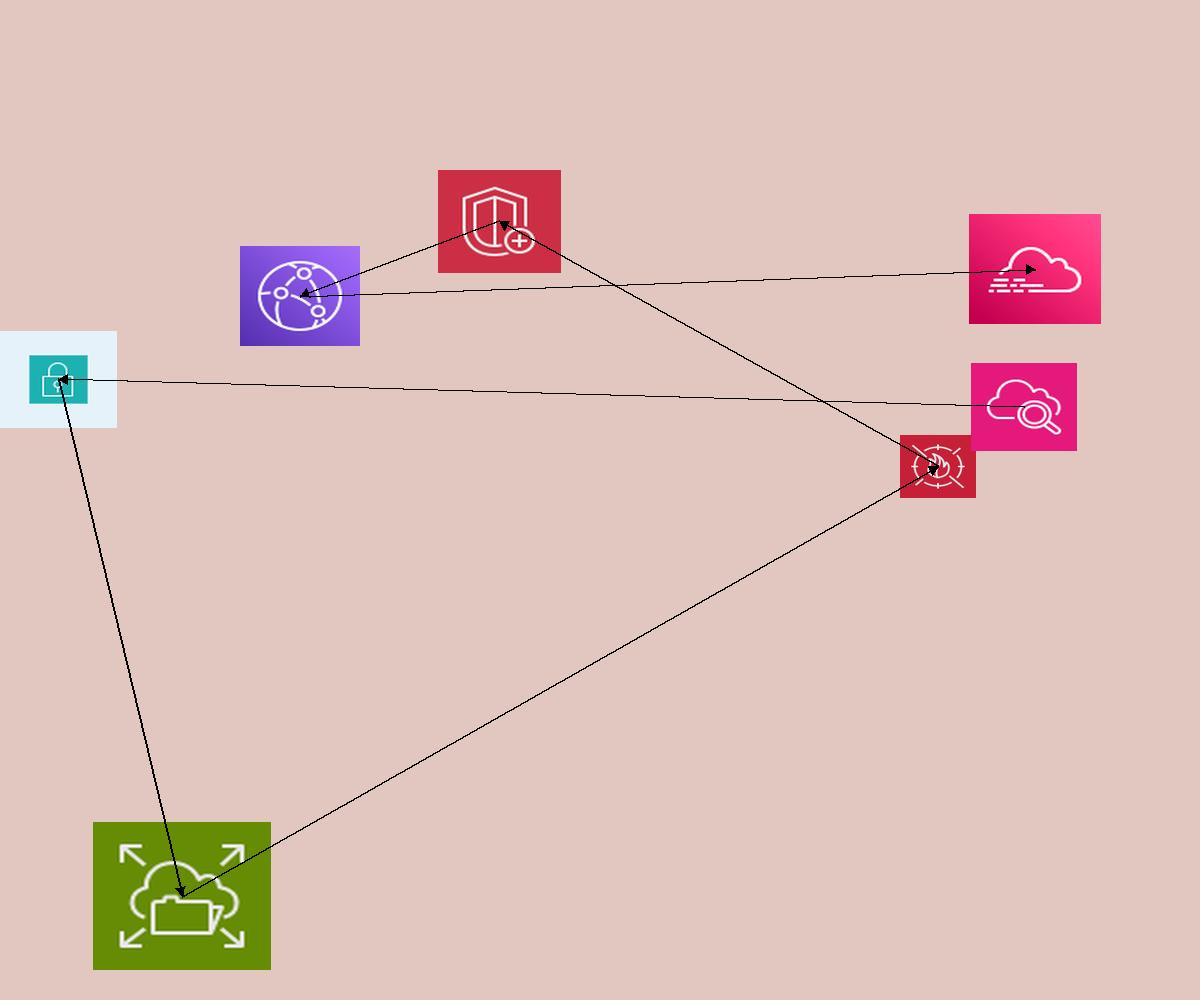AWS-CloudFront: (240, 246, 360, 346)
AWS-CloudTrail: (969, 214, 1101, 324)
AWS-CloudWatch: (971, 363, 1077, 451)
AWS-EFS: (93, 822, 271, 970)
AWS-Private-subnet: (0, 331, 117, 428)
AWS-Shield: (438, 170, 561, 273)
AWS-WAF: (900, 435, 976, 498)
